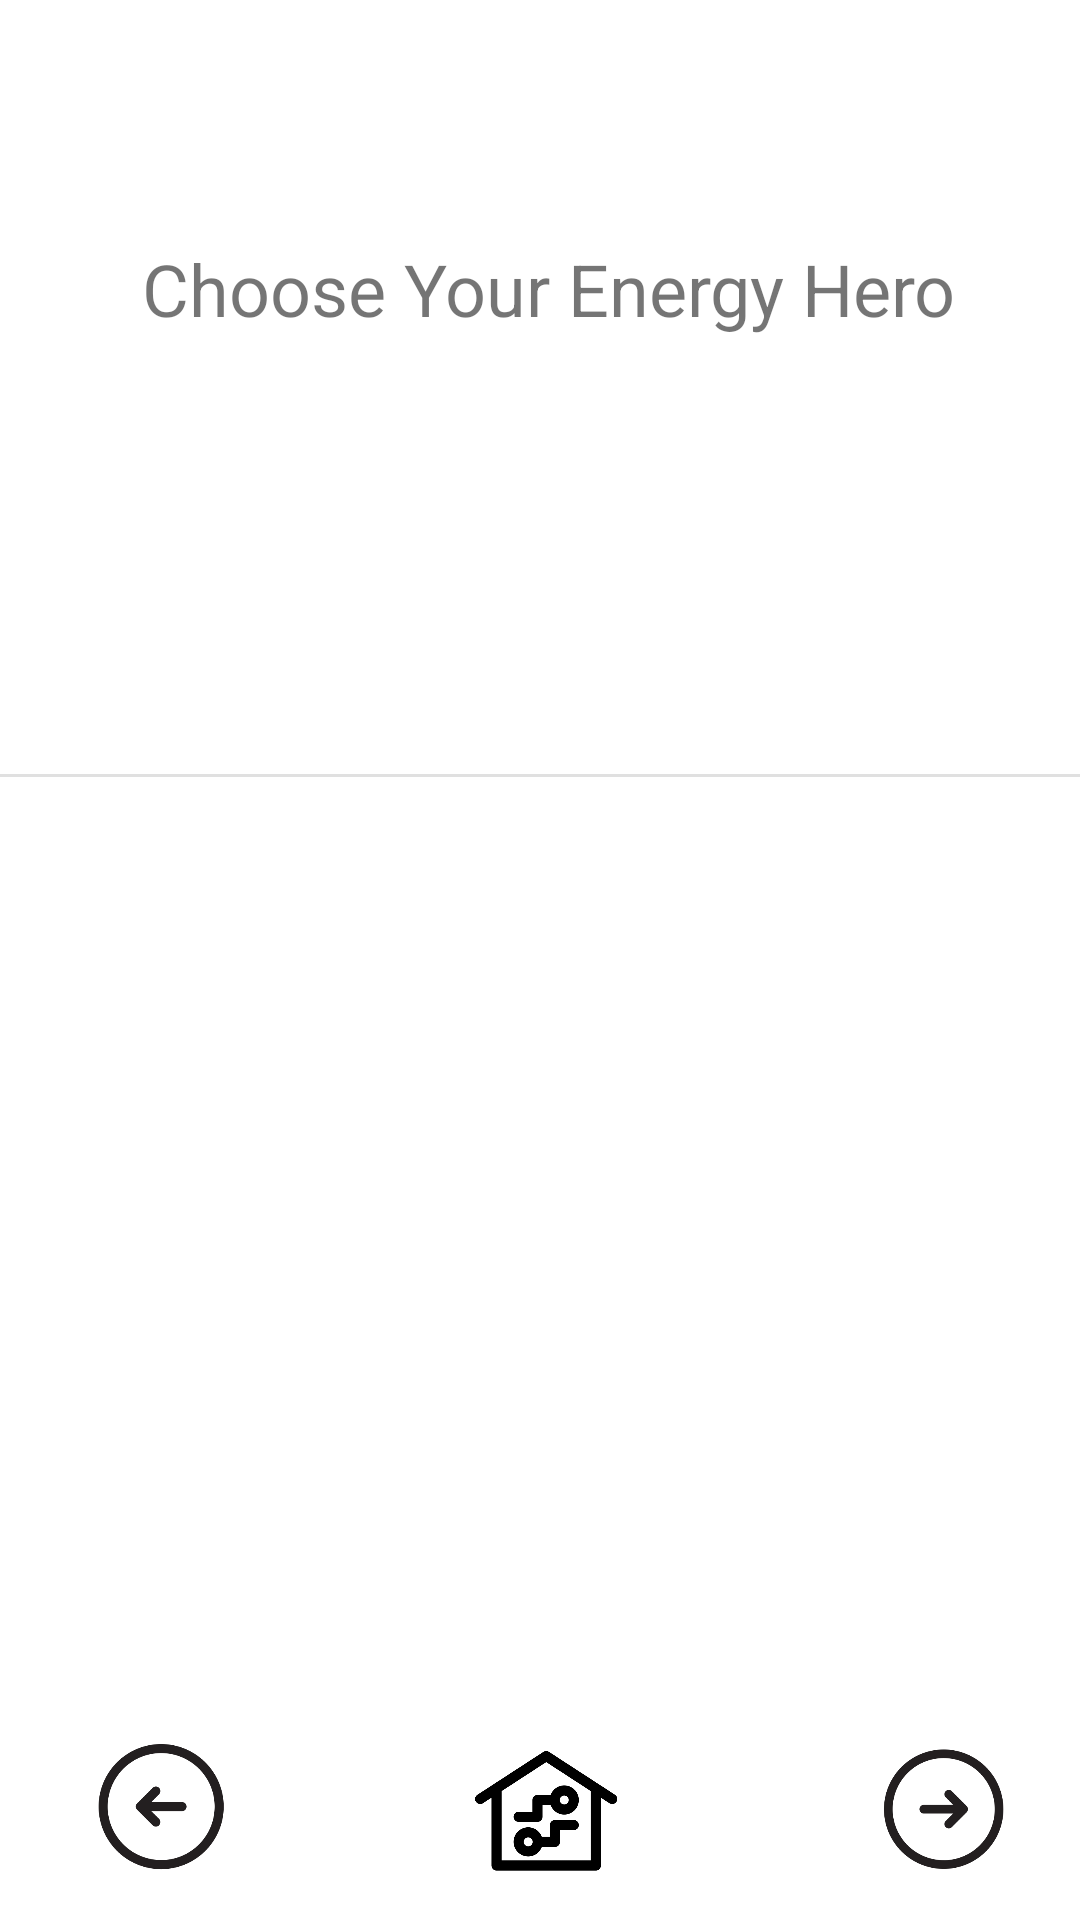

Locate icon controls on the screen. Image size 1080x1920, boxes as (x1, y1, x2, y2).
back: (98, 1744, 224, 1869)
forward: (884, 1749, 1004, 1869)
home: (475, 1751, 617, 1871)
